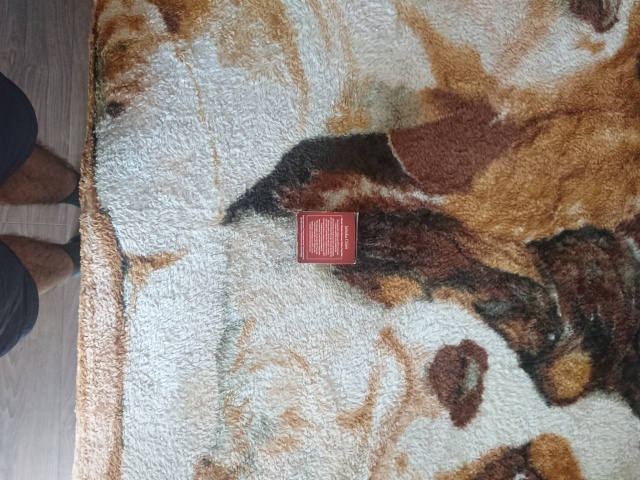Franck Apple Cinnamon Tea 60g: (294, 208, 359, 265)
